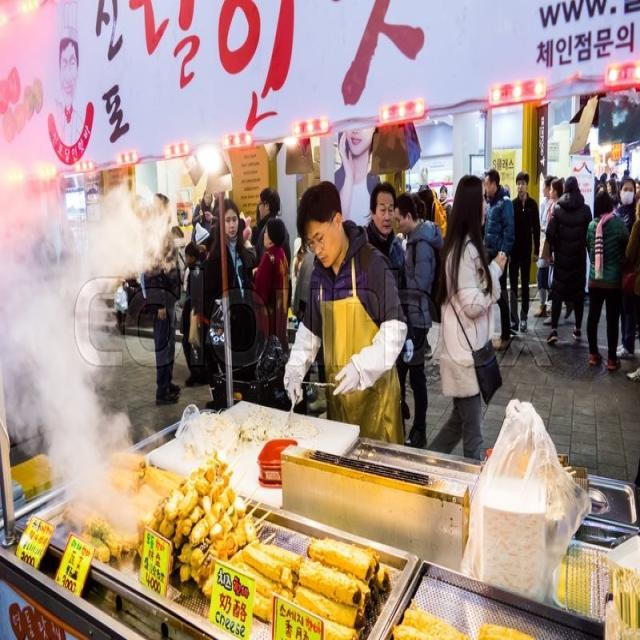body: (282, 179, 408, 449), (424, 173, 510, 471), (24, 30, 99, 370), (389, 188, 445, 452), (362, 179, 417, 366), (584, 188, 632, 374), (142, 190, 183, 407), (543, 174, 594, 345), (250, 216, 291, 413), (202, 198, 255, 321), (482, 168, 516, 353), (290, 252, 326, 417), (335, 107, 383, 227), (509, 170, 542, 334), (614, 176, 638, 362), (178, 239, 205, 389), (617, 212, 640, 386), (250, 185, 292, 274), (533, 174, 555, 318), (391, 182, 426, 254), (593, 164, 640, 212), (538, 177, 564, 236), (190, 186, 215, 243), (290, 235, 306, 308), (422, 311, 438, 378), (232, 206, 254, 254), (205, 190, 226, 230), (437, 183, 453, 226), (605, 178, 620, 209), (502, 170, 512, 200), (477, 172, 487, 192), (426, 182, 437, 200)
